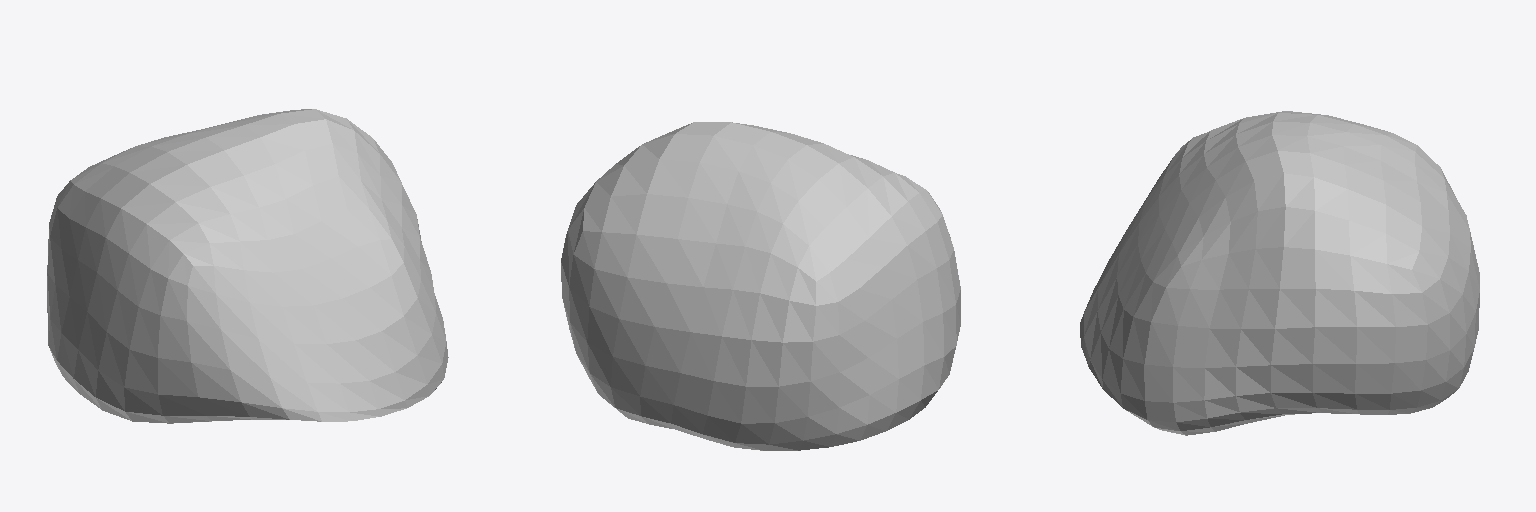
The model's file is Rock_A_02_LOD0.obj.
3 renders of one model, left to right at view 1: azimuth 30°, elevation 25°; view 2: azimuth 150°, elevation 25°; view 3: azimuth 270°, elevation 25°, orthographic.
Visible parts, largest first — view 1: Rock_A_02_LOD0_Cube.520; view 2: Rock_A_02_LOD0_Cube.520; view 3: Rock_A_02_LOD0_Cube.520.
Part boxes in pixels (bbox=[...]): Rock_A_02_LOD0_Cube.520: bbox=[47, 109, 448, 423]; Rock_A_02_LOD0_Cube.520: bbox=[561, 122, 960, 450]; Rock_A_02_LOD0_Cube.520: bbox=[1080, 111, 1479, 435].
Size of the model in its own units: 3.47 by 2.45 by 3.59.